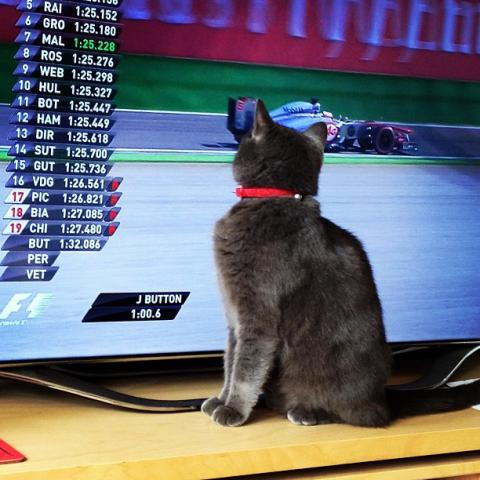car: (226, 98, 419, 154)
